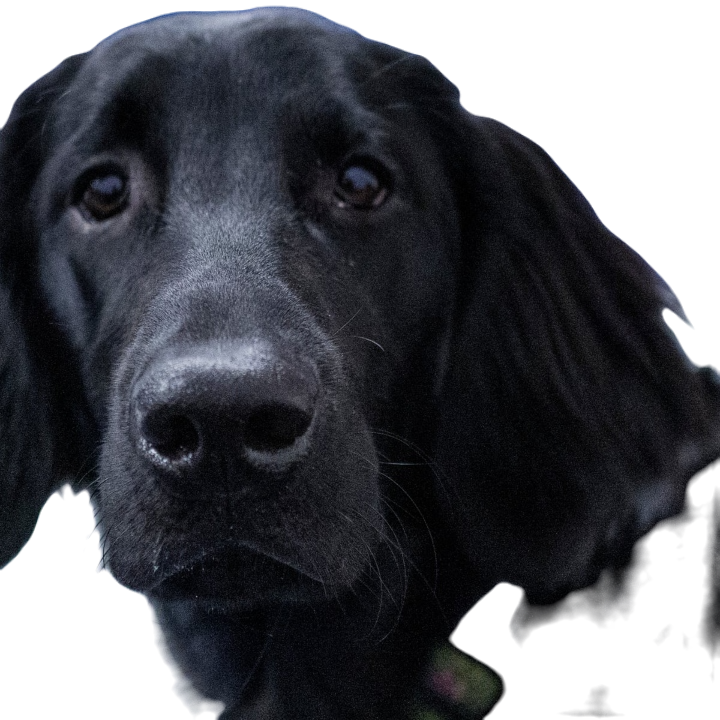Dog: (0, 4, 720, 715)
